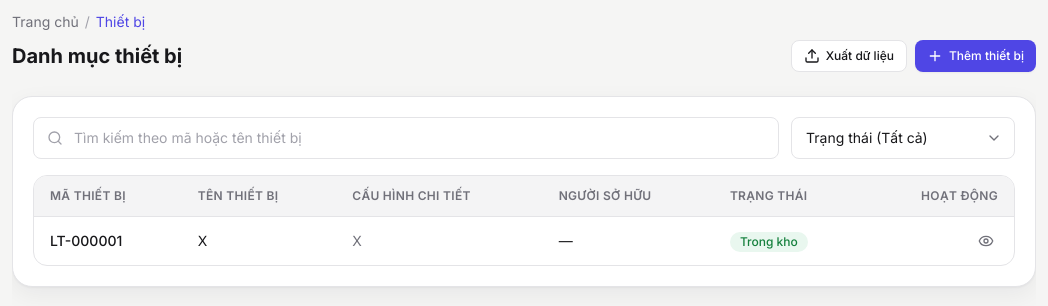
Chuyên viên Kỹ thuật: thêm/sửa được, không thấy Xoá và "Dọn thùng rác"
Check: the text "LT-000001" is shown, box [50,232,122,249]
Check: the button "Thêm thiết bị" is shown, box [915,40,1036,72]
Select "Đã xóa" in the dropdown. click: [903, 138]
box: [791,117,1015,159]
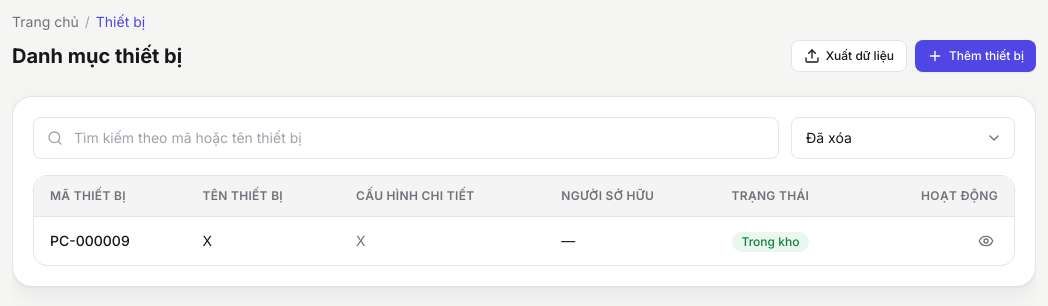
Check: the text "PC-000009" is shown, box [50,232,130,249]
